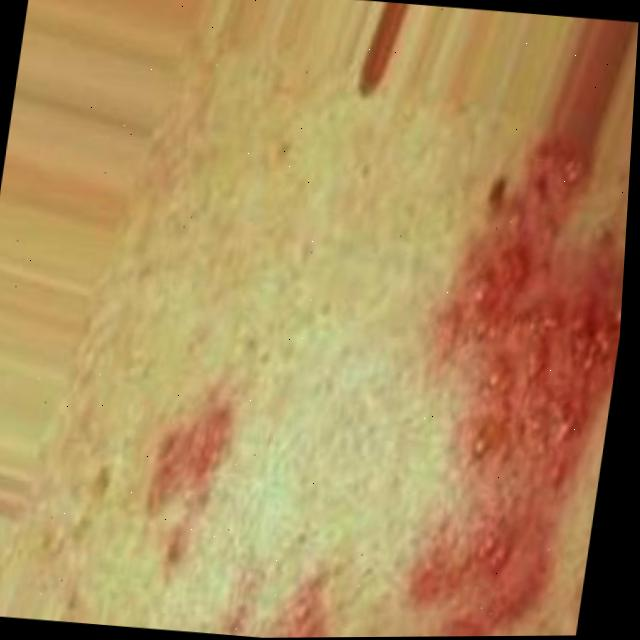Shingles: (385, 152, 631, 637), (131, 396, 370, 639)
